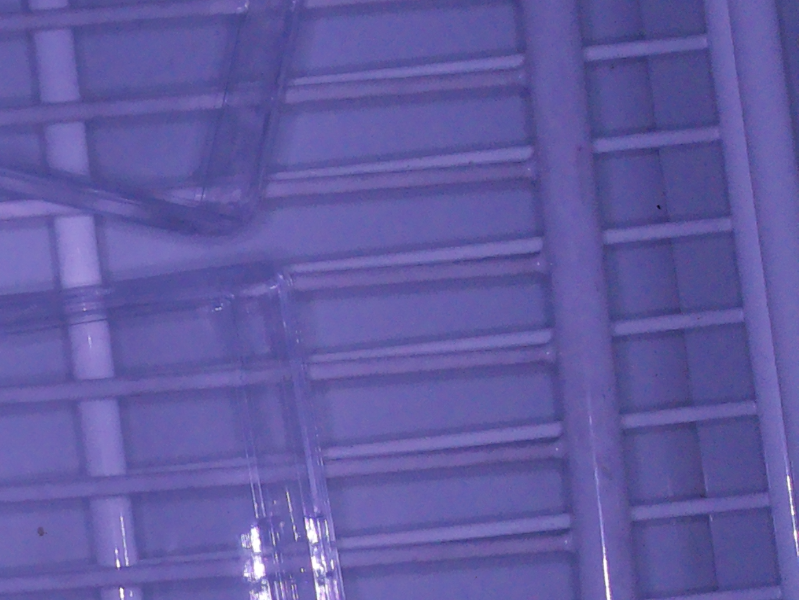plate: (1, 259, 345, 600), (1, 1, 303, 239)
